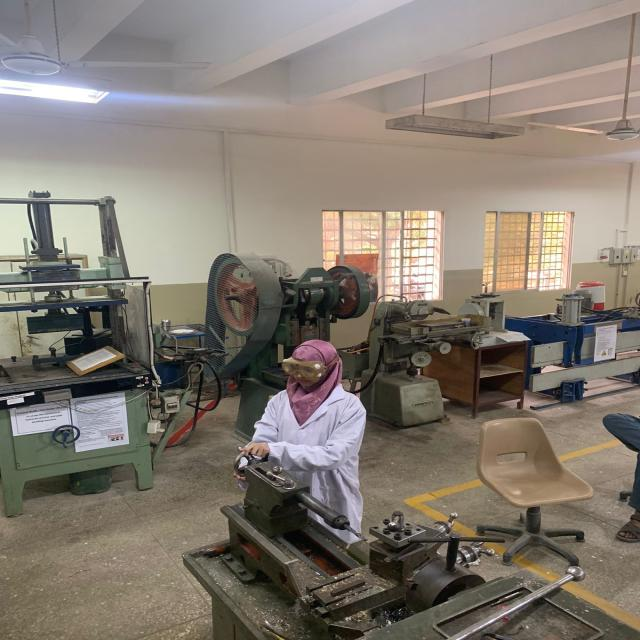googles: (280, 356, 330, 381)
labcoat: (240, 380, 372, 548)
